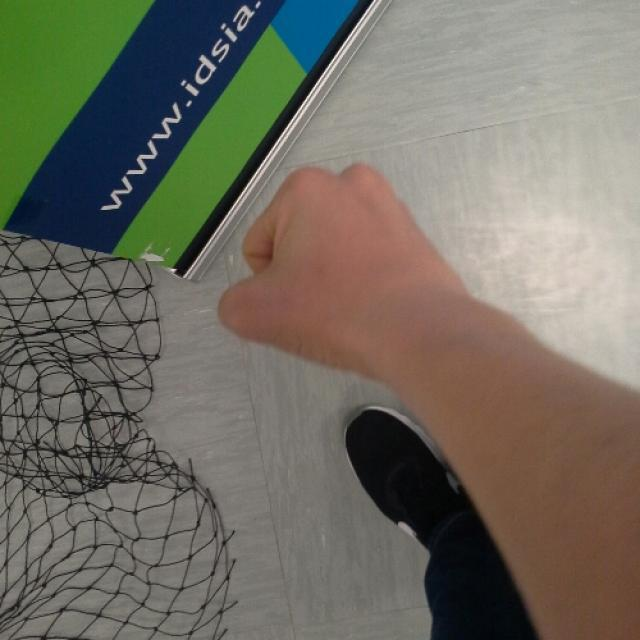rock: (218, 166, 402, 367)
